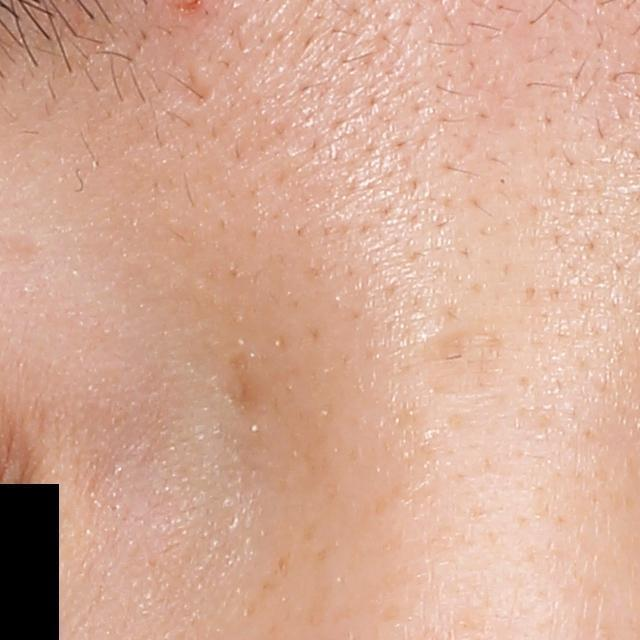atrophic_scar: (417, 317, 504, 400), (224, 345, 260, 416), (179, 67, 214, 113)
